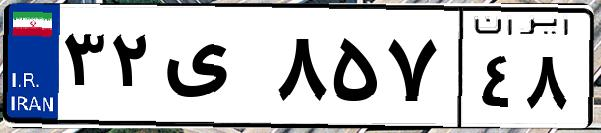2: (110, 28, 158, 98)
3: (57, 26, 110, 100)
4: (475, 38, 525, 113)
5: (330, 28, 385, 110)
7: (385, 28, 445, 110)
8: (270, 28, 330, 110), (525, 38, 570, 115)
ی: (158, 20, 270, 120)
